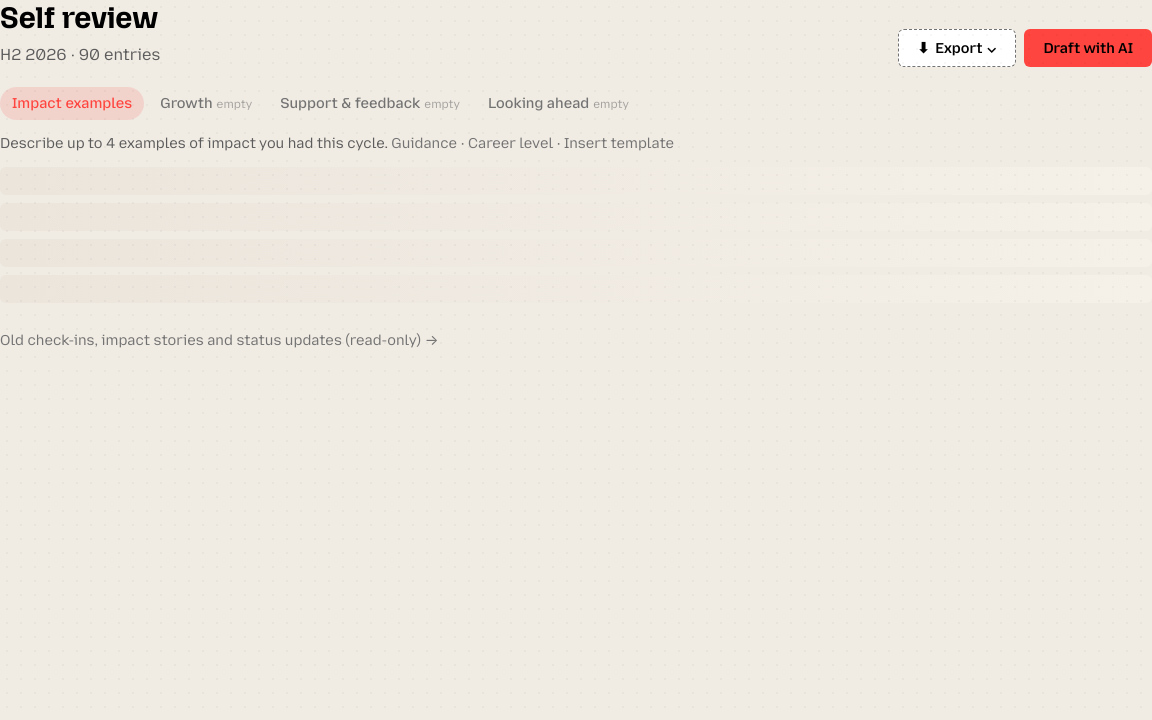
Test case: Review › expands guidance inline and opens the career level drawer
Click the button "Guidance".
click(424, 144)  # box [391,132,457,155]
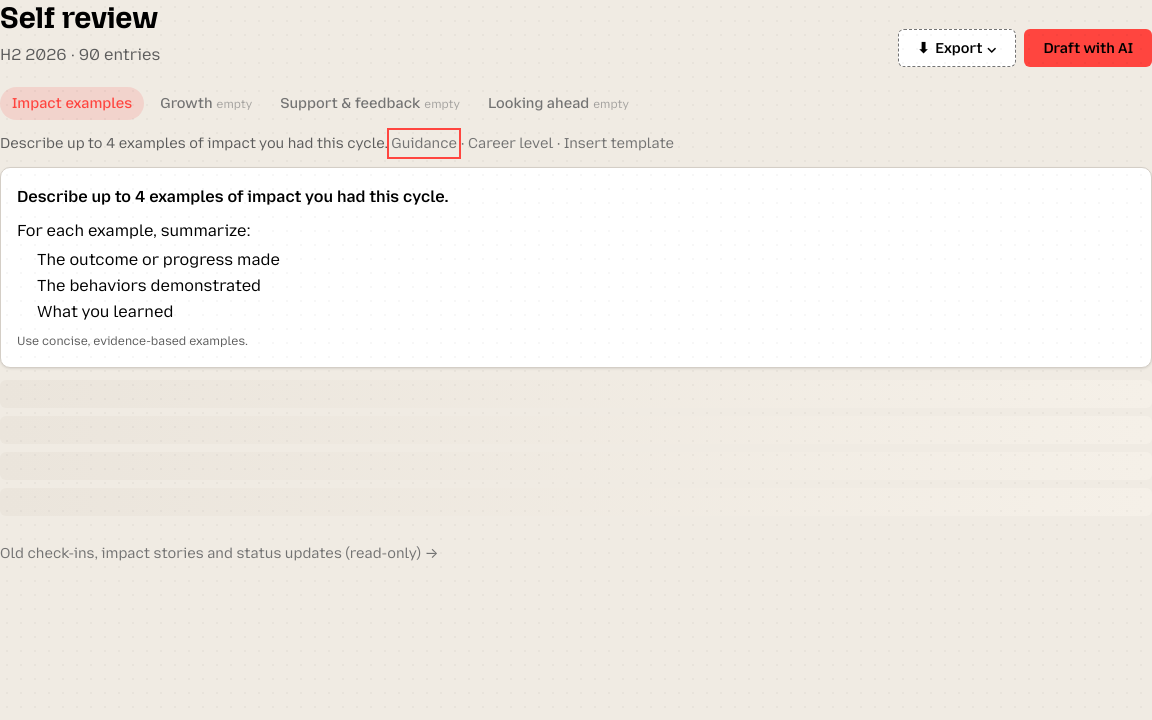
Expected: the list item "The outcome or progress made" is shown, [37,250,280,269]
Click the button "Career level".
click(510, 144)  # box [468,132,553,155]
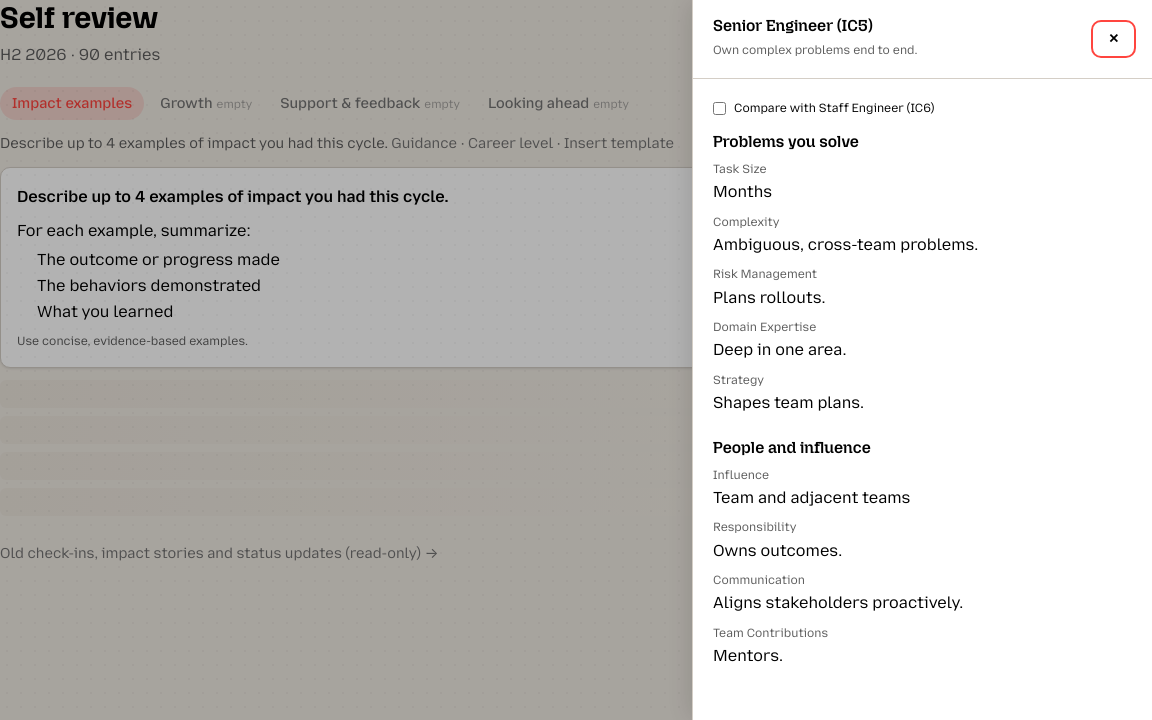
Expected: the dialog "Senior Engineer (IC5)" is shown, [692,0,1151,719]
